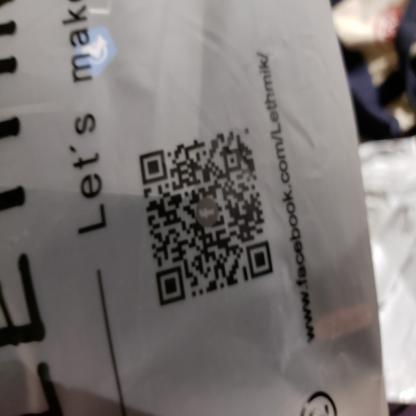qr: (134, 124, 278, 316)
